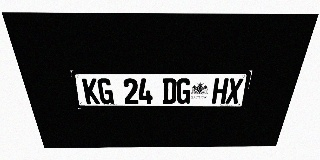2: (123, 78, 138, 104)
4: (138, 78, 152, 104)
D: (162, 78, 177, 104)
G: (97, 78, 114, 104), (176, 78, 191, 104)
H: (211, 78, 229, 104)
K: (82, 78, 100, 104)
X: (225, 78, 243, 104)
